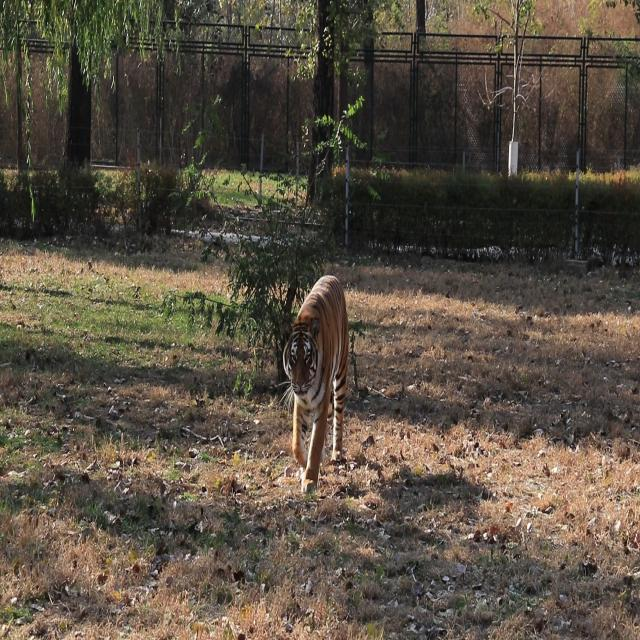Tiger: (275, 255, 377, 496)
